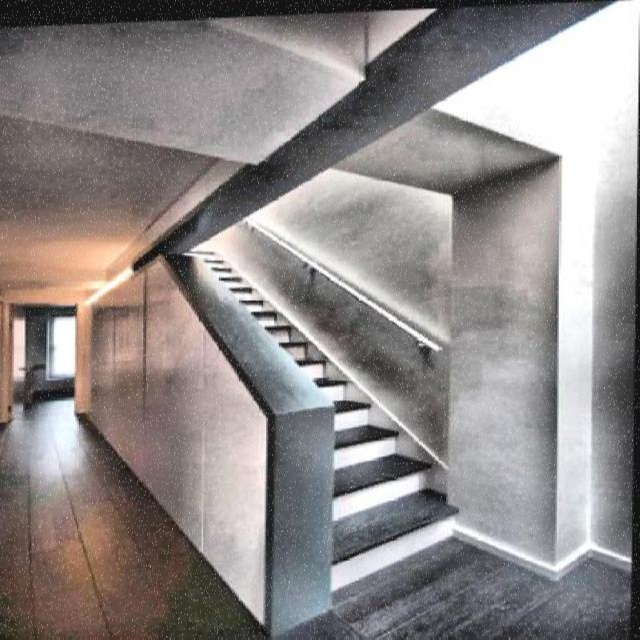stair: (184, 226, 462, 637)
